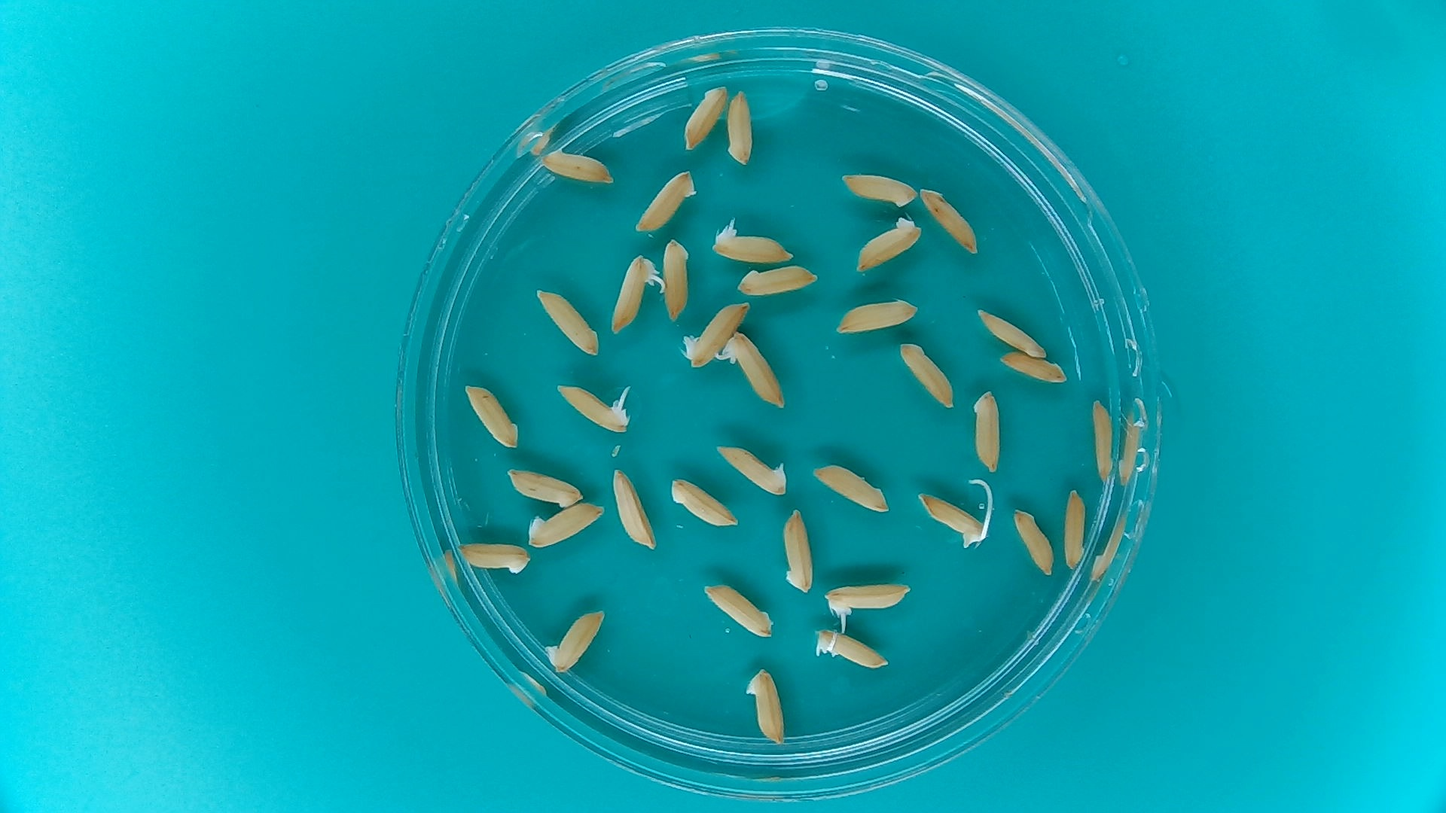no: (535, 287, 600, 358), (685, 300, 751, 369), (701, 582, 774, 639), (920, 186, 978, 256), (610, 467, 657, 552), (713, 444, 788, 497), (633, 170, 696, 233), (547, 607, 607, 673), (813, 463, 889, 515), (975, 305, 1048, 359), (653, 238, 697, 327), (898, 341, 953, 411), (855, 218, 923, 274), (463, 382, 519, 449), (670, 477, 741, 529), (528, 501, 606, 547), (506, 465, 584, 508), (833, 298, 920, 336), (681, 84, 728, 152), (1011, 506, 1054, 579), (746, 668, 785, 748), (781, 508, 814, 594), (839, 172, 919, 207), (539, 148, 615, 184), (971, 390, 1001, 477), (736, 266, 819, 296), (997, 350, 1067, 384), (456, 542, 530, 573), (1091, 396, 1115, 488), (727, 88, 752, 166), (1063, 488, 1086, 571)
yes: (728, 330, 779, 408), (555, 383, 630, 435), (924, 497, 996, 547), (609, 254, 652, 334), (813, 629, 889, 670), (822, 583, 907, 614), (711, 230, 789, 263)
